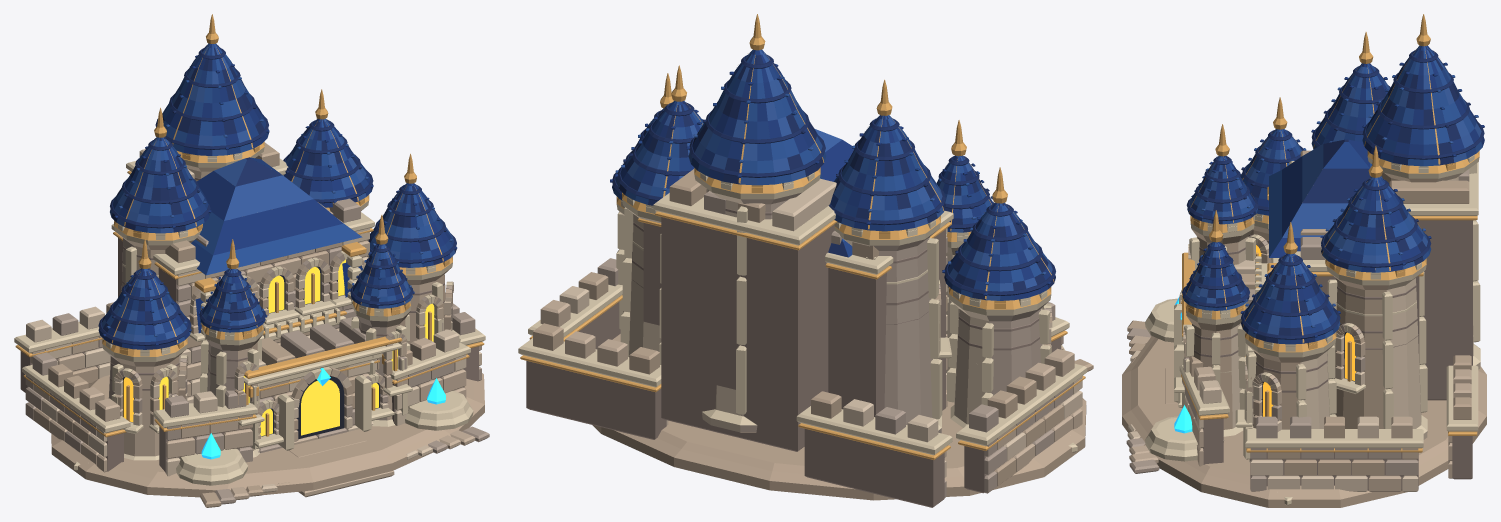
The model's file is citadel.glb.
3 renders of one model, left to right at view 1: azimuth 30°, elevation 25°; view 2: azimuth 150°, elevation 25°; view 3: azimuth 270°, elevation 25°, orthographic. The views are drawn at different scales.
Parts seen in each view (by area): view 1: Ivory carving, Limestone 1, Limestone 4, Cobalt glazed tiles 1, Limestone 3, Cobalt glazed tiles 4, Brushed gold and bronze, Cobalt glazed tiles 3, Cobalt glazed tiles 5, Limestone 2, Cobalt glazed tiles 2, Amber glass (+3 smaller); view 2: Shadowed stone joints, Ivory carving, Limestone 1, Limestone 3, Cobalt glazed tiles 1, Limestone 2, Brushed gold and bronze, Cobalt glazed tiles 3, Cobalt glazed tiles 4, Cobalt glazed tiles 5, Cobalt glazed tiles 2, Limestone 4; view 3: Limestone 1, Ivory carving, Cobalt glazed tiles 1, Shadowed stone joints, Limestone 2, Cobalt glazed tiles 4, Cobalt glazed tiles 2, Brushed gold and bronze, Cobalt glazed tiles 5, Cobalt glazed tiles 3, Limestone 3, Limestone 4 (+1 smaller).
Boxes of the visible parts, bbox=[...] form: Ivory carving: bbox=[14, 147, 485, 485]; Limestone 1: bbox=[33, 142, 484, 507]; Limestone 4: bbox=[30, 164, 475, 500]; Cobalt glazed tiles 1: bbox=[98, 44, 456, 349]; Limestone 3: bbox=[25, 198, 489, 504]; Cobalt glazed tiles 4: bbox=[98, 44, 457, 349]; Brushed gold and bronze: bbox=[15, 14, 484, 437]; Cobalt glazed tiles 3: bbox=[105, 44, 436, 343]; Cobalt glazed tiles 5: bbox=[101, 43, 455, 341]; Limestone 2: bbox=[26, 149, 481, 492]; Cobalt glazed tiles 2: bbox=[112, 43, 454, 341]; Amber glass: bbox=[123, 259, 434, 436]; Shadowed stone joints: bbox=[526, 189, 1061, 507]; Ivory carving: bbox=[518, 172, 1087, 455]; Limestone 1: bbox=[533, 169, 1093, 500]; Limestone 3: bbox=[597, 191, 1075, 497]; Cobalt glazed tiles 1: bbox=[612, 50, 1055, 299]; Limestone 2: bbox=[559, 178, 1082, 477]; Brushed gold and bronze: bbox=[520, 14, 1085, 459]; Cobalt glazed tiles 3: bbox=[614, 49, 1047, 297]; Cobalt glazed tiles 4: bbox=[610, 50, 1051, 299]; Cobalt glazed tiles 5: bbox=[615, 50, 1052, 300]; Cobalt glazed tiles 2: bbox=[612, 50, 1039, 300]; Limestone 4: bbox=[540, 237, 1082, 472]; Limestone 1: bbox=[1122, 150, 1486, 507]; Ivory carving: bbox=[1145, 155, 1480, 505]; Cobalt glazed tiles 1: bbox=[1182, 46, 1484, 343]; Shadowed stone joints: bbox=[1194, 185, 1472, 490]; Limestone 2: bbox=[1127, 172, 1480, 491]; Cobalt glazed tiles 4: bbox=[1185, 46, 1484, 344]; Cobalt glazed tiles 2: bbox=[1182, 46, 1476, 344]; Brushed gold and bronze: bbox=[1181, 14, 1479, 452]; Cobalt glazed tiles 5: bbox=[1186, 46, 1481, 337]; Cobalt glazed tiles 3: bbox=[1184, 46, 1482, 337]; Limestone 3: bbox=[1126, 169, 1469, 491]; Limestone 4: bbox=[1129, 237, 1471, 491].
Bounding box in the file's own units: 6.17 × 5.45 × 4.5.
